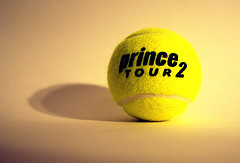tennis ball: (105, 26, 205, 124)
